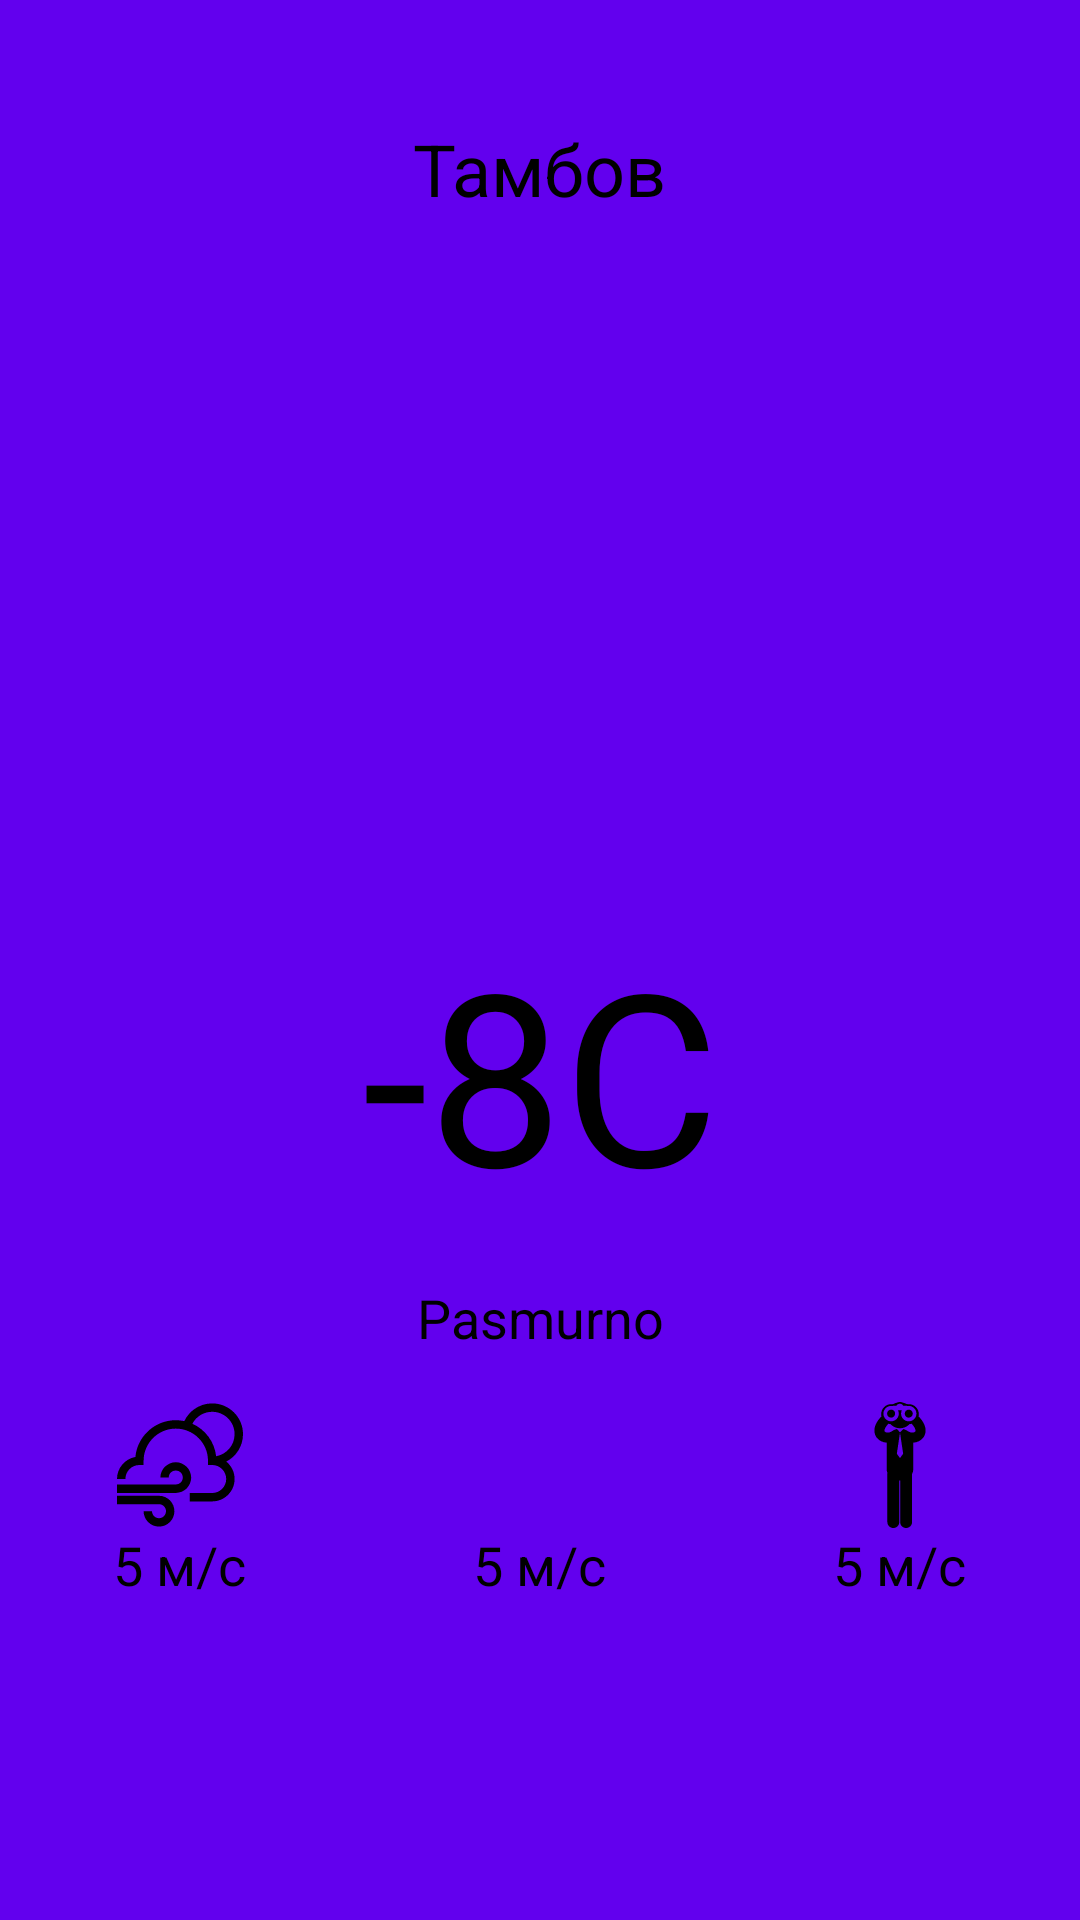

Icon bounding boxes for this 1080×1920 phone screenshot, format (x1, y1, x2, y2):
visibility: (874, 1402, 926, 1528)
wind: (117, 1403, 243, 1527)
